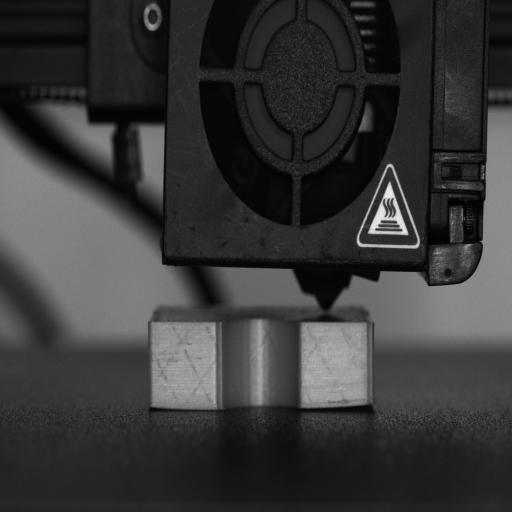warp: (324, 392, 376, 418)
